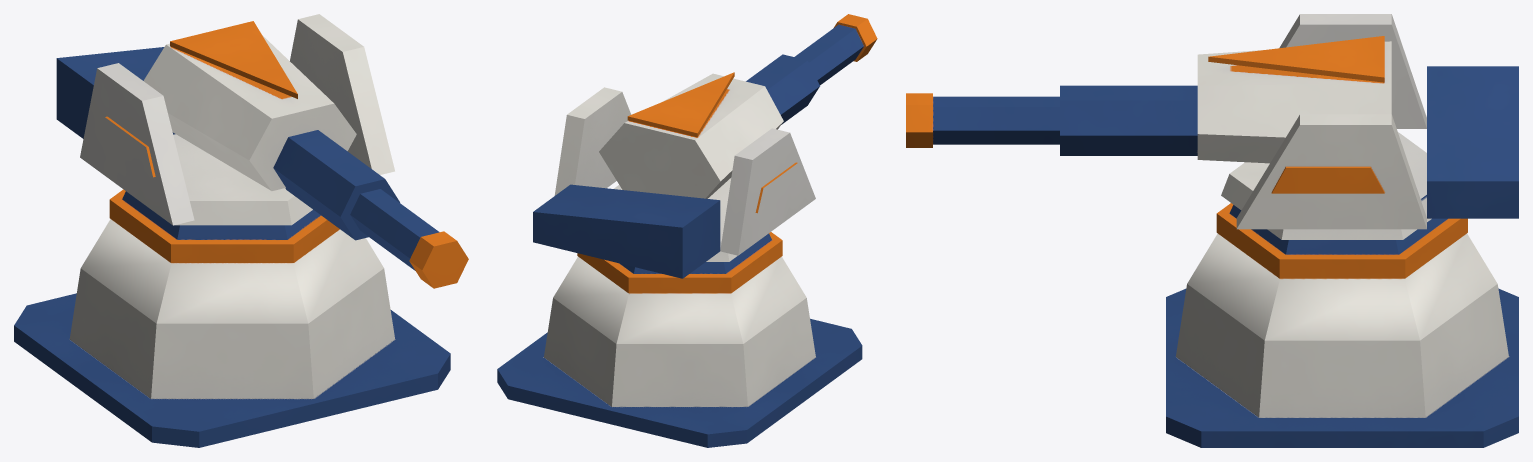
File: R4W_Basic_LOD1.fbx
The picture shows the model from 3 angles, left to right: view 1: azimuth 30°, elevation 25°; view 2: azimuth 150°, elevation 25°; view 3: azimuth 270°, elevation 25°; orthographic projection. The views are drawn at different scales.
Parts seen in each view (by area): view 1: R4W_Basic_LOD1; view 2: R4W_Basic_LOD1; view 3: R4W_Basic_LOD1.
Boxes of the visible parts, bbox=[...] form: R4W_Basic_LOD1: bbox=[14, 14, 468, 447]; R4W_Basic_LOD1: bbox=[497, 14, 877, 447]; R4W_Basic_LOD1: bbox=[906, 14, 1518, 447].
Bounding box in the file's own units: 0.5 × 0.495 × 0.868.
Materials: 1 (1 with a texture image).
